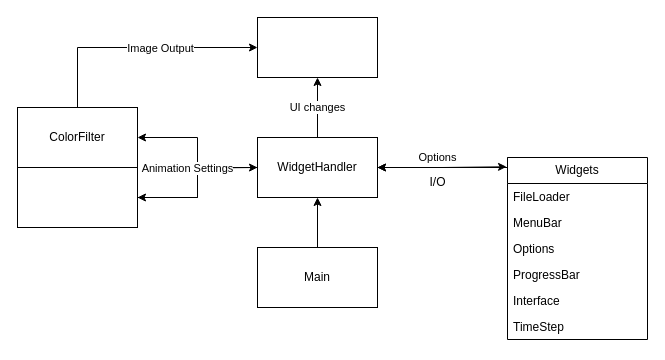
The diagram is 665 pixels wide and 360 high, and some of its shapes have lost their labels. Each missing label, with the centre of its shape:
Animator: [77,197]
CanvasWidget: [317,47]
